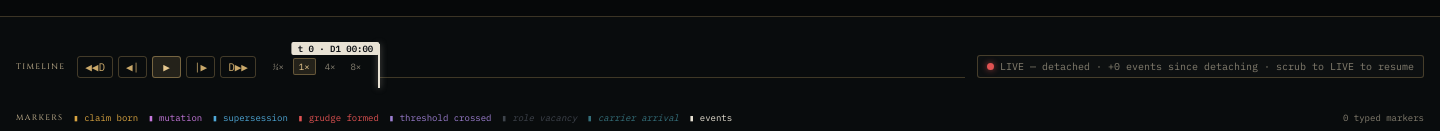
Scenario: App.vue (lane 54: global timeline chrome) › play/pause and speed presets stay wired off /map
Click the button with test id "transport-play-pause". click: (167, 66)
box: [152, 56, 181, 78]
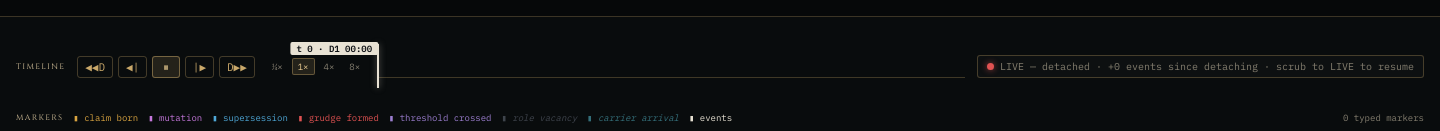
Result: the button with test id "transport-play-pause" reads "⏸" at [152, 56, 180, 78]
